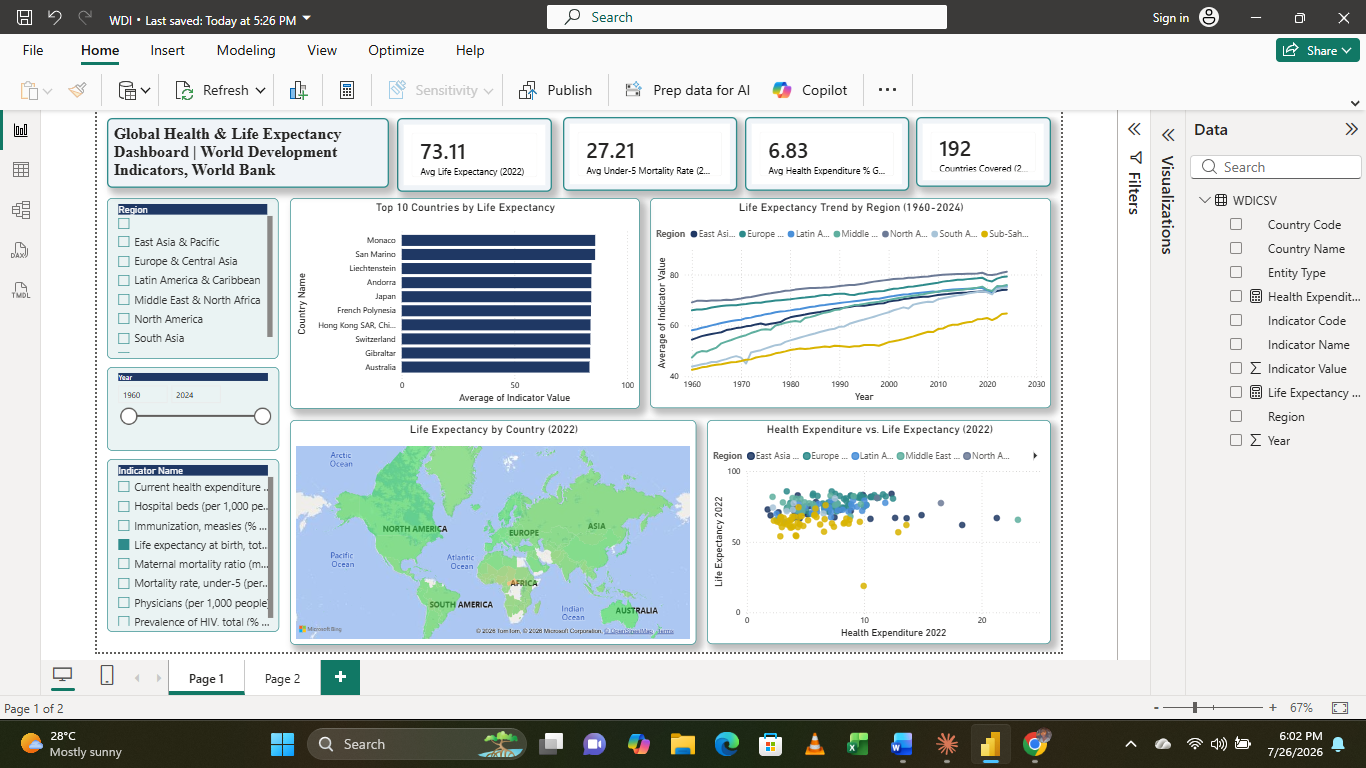

What the dashboard file says about the page in this screenshot:
{"tool":"powerbi","page":{"name":"Page 1","canvas":[1450,815],"ordinal":0},"visuals":[{"type":"cardVisual","fields":{"Data":["Avg(WDICSV.Indicator Value)"]},"box":[451.1,12,233.1,111.3],"z":0},{"type":"cardVisual","fields":{"Data":["Avg(WDICSV.Indicator Value)"]},"box":[700.7,10.5,261.6,111.3],"z":1000},{"type":"cardVisual","fields":{"Data":["Avg(WDICSV.Indicator Value)"]},"box":[974.4,10.5,246.6,111.3],"z":2000},{"type":"cardVisual","fields":{"Data":["CountNonNull(WDICSV.Indicator Value)"]},"box":[1231.5,10.5,203,105.3],"z":3000},{"type":"lineChart","title":"Life Expectancy Trend by Region (1960-2024)","fields":{"Category":["WDICSV.Year"],"Y":["Avg(WDICSV.Indicator Value)"],"Series":["WDICSV.Region"]},"box":[831.5,132.3,603,315.8],"z":4000},{"type":"clusteredBarChart","title":"Top 10 Countries by Life Expectancy","fields":{"Category":["WDICSV.Country Name"],"Y":["Avg(WDICSV.Indicator Value)"]},"box":[290.2,132.3,526.3,317.3],"z":5000},{"type":"slicer","fields":{"Values":["WDICSV.Region"]},"box":[14.9,132.5,258.4,241.8],"z":6000},{"type":"slicer","fields":{"Values":["WDICSV.Year"]},"box":[15,386.4,258.6,126.3],"z":7000},{"type":"slicer","fields":{"Values":["WDICSV.Indicator Name"]},"box":[15,524.8,258.6,260.1],"z":8000},{"type":"filledMap","title":"Life Expectancy by Country (2022)","fields":{"Category":["WDICSV.Country Name"]},"box":[289.9,465.5,611.2,337.9],"z":9000},{"type":"scatterChart","title":"Health Expenditure vs. Life Expectancy (2022)","fields":{"X":["WDICSV.Health Expenditure 2022"],"Y":["WDICSV.Life Expectancy 2022"],"Series":["WDICSV.Region"],"Category":["WDICSV.Country Name"]},"box":[917.3,466.1,517.3,336.8],"z":10000},{"type":"textbox","box":[15,12,424,105.3],"z":11000}]}

Visuals, with their boxes on the page's 1450x815 design canvas (x1, y1, x2, y2). These are canvas units, not pixel positions in the 1366x768 screenshot, which may show the page scaled, cropped or inside an application window:
cardVisual - Avg(WDICSV.Indicator Value): pyautogui.locateOnScreen(451, 12, 684, 123)
cardVisual - Avg(WDICSV.Indicator Value): pyautogui.locateOnScreen(701, 10, 962, 122)
cardVisual - Avg(WDICSV.Indicator Value): pyautogui.locateOnScreen(974, 10, 1221, 122)
cardVisual - CountNonNull(WDICSV.Indicator Value): pyautogui.locateOnScreen(1232, 10, 1434, 116)
"Life Expectancy Trend by Region (1960-2024)" lineChart: pyautogui.locateOnScreen(832, 132, 1434, 448)
"Top 10 Countries by Life Expectancy" clusteredBarChart: pyautogui.locateOnScreen(290, 132, 816, 450)
slicer - WDICSV.Region: pyautogui.locateOnScreen(15, 132, 273, 374)
slicer - WDICSV.Year: pyautogui.locateOnScreen(15, 386, 274, 513)
slicer - WDICSV.Indicator Name: pyautogui.locateOnScreen(15, 525, 274, 785)
"Life Expectancy by Country (2022)" filledMap: pyautogui.locateOnScreen(290, 466, 901, 803)
"Health Expenditure vs. Life Expectancy (2022)" scatterChart: pyautogui.locateOnScreen(917, 466, 1435, 803)
textbox: pyautogui.locateOnScreen(15, 12, 439, 117)
